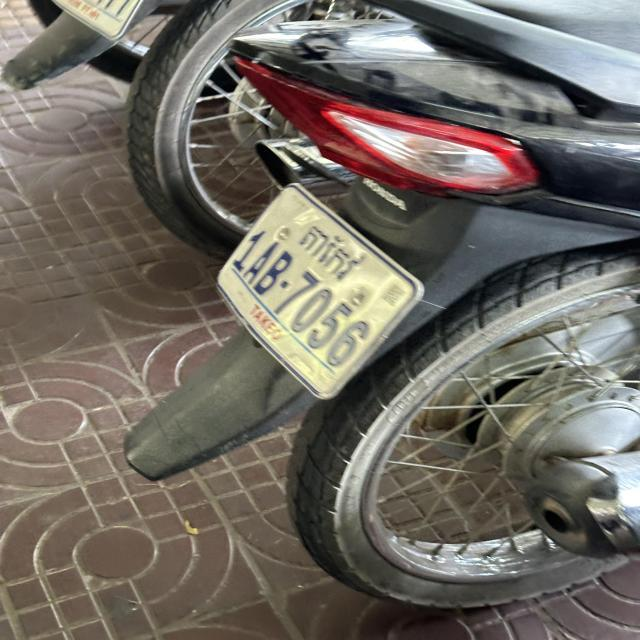Takeo: (300, 224, 368, 280)
